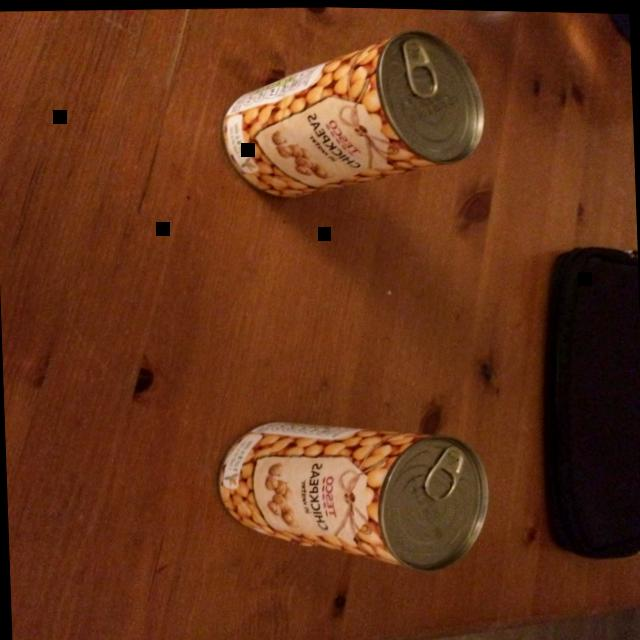Food Can: (221, 28, 483, 196), (218, 419, 487, 569)
Pop tab: (424, 443, 464, 498), (402, 36, 439, 95)
